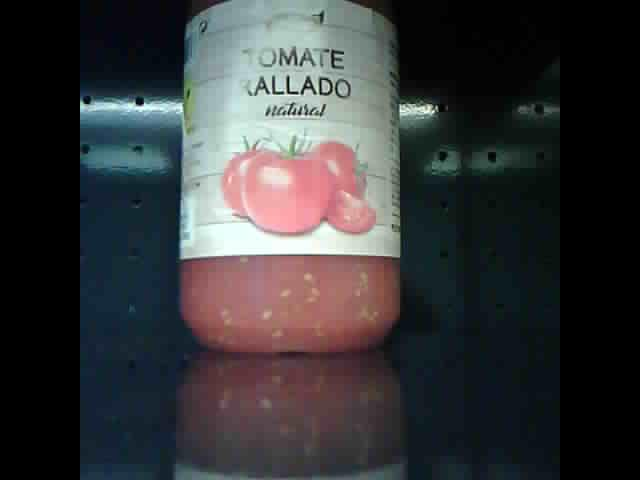tomate: (177, 5, 401, 357)
